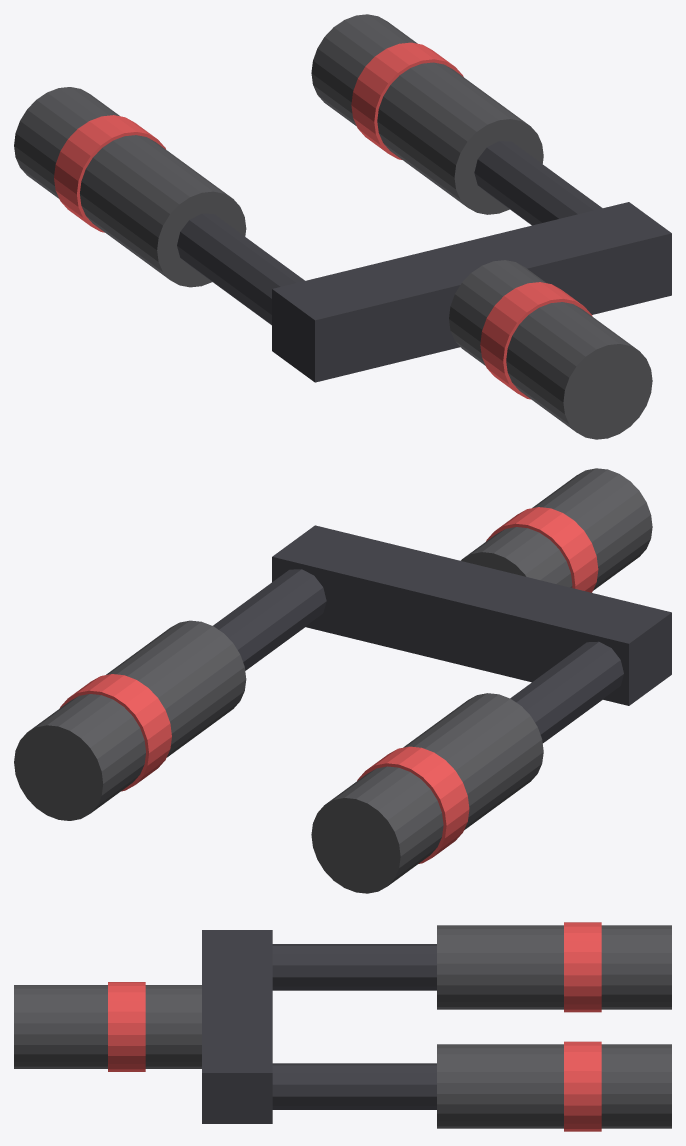
File: mc4-y-pos.glb
The picture shows the model from 3 angles, top to bottom: view 1: azimuth 30°, elevation 25°; view 2: azimuth 150°, elevation 25°; view 3: azimuth 270°, elevation 25°; orthographic projection. The views are drawn at different scales.
Parts seen in each view (by area): view 1: arms, inb_body, ina_body, out_body, out_band, inb_band, ina_band; view 2: arms, ina_body, inb_body, out_body, ina_band, inb_band, out_band; view 3: arms, ina_body, inb_body, out_body, ina_band, inb_band, out_band.
Part boxes in pixels (x1,y1,x2,y2): arms: [177, 141, 671, 382]; inb_body: [311, 14, 543, 214]; ina_body: [14, 87, 246, 287]; out_body: [449, 260, 652, 439]; out_band: [480, 282, 592, 399]; inb_band: [351, 42, 463, 159]; ina_band: [54, 115, 165, 232]; arms: [213, 525, 671, 743]; ina_body: [311, 693, 543, 893]; inb_body: [14, 620, 246, 820]; out_body: [461, 468, 652, 590]; ina_band: [357, 746, 469, 863]; inb_band: [59, 674, 171, 791]; out_band: [486, 507, 598, 592]; arms: [202, 930, 436, 1123]; ina_body: [437, 925, 671, 1009]; inb_body: [437, 1044, 671, 1128]; out_body: [14, 985, 201, 1068]; ina_band: [564, 922, 601, 1012]; inb_band: [564, 1041, 601, 1131]; out_band: [108, 982, 145, 1071].
Bounding box in the file's own units: 0.0792 × 0.0192 × 0.14.
